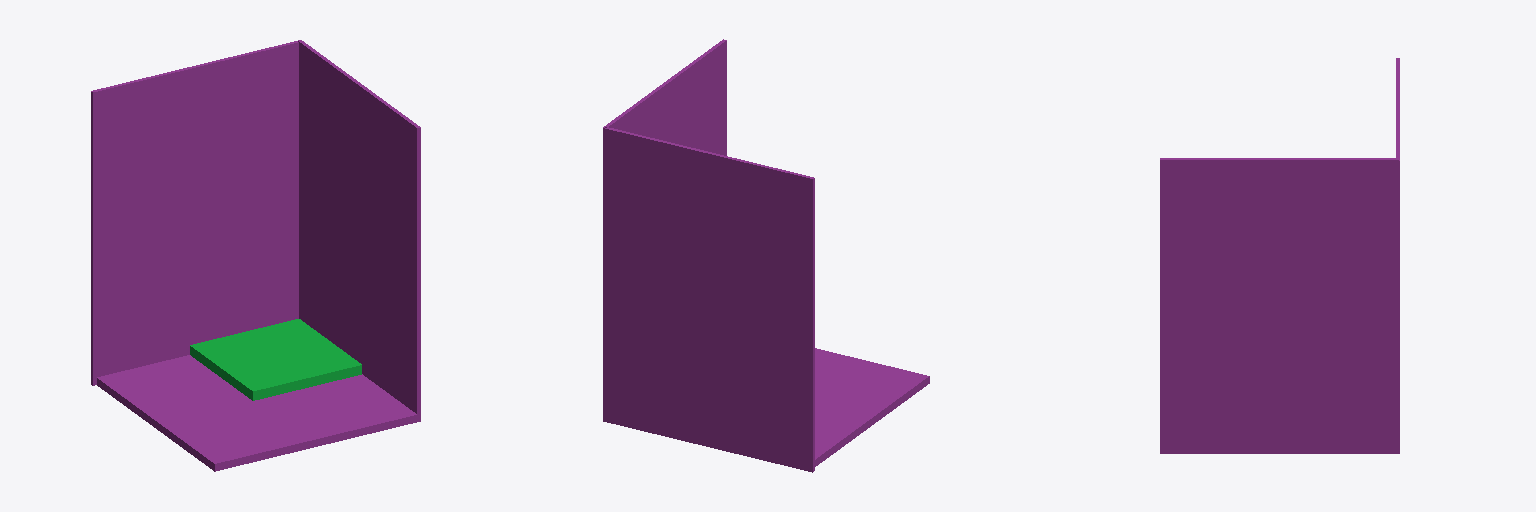
File: box-corner-2.obj
3 renders of one model, left to right at view 1: azimuth 30°, elevation 25°; view 2: azimuth 150°, elevation 25°; view 3: azimuth 270°, elevation 25°, orthographic.
Visible parts, largest first — view 1: Object.2, Object.1, Object.3, Object.4; view 2: Object.2, Object.1, Object.3; view 3: Object.1, Object.2.
Part boxes in pixels (x1,y1,x2,y2): Object.2: (91,40,299,385); Object.1: (298,40,420,421); Object.3: (97,355,416,471); Object.4: (190,319,361,400); Object.2: (603,127,814,472); Object.1: (604,39,726,155); Object.3: (815,348,929,466); Object.1: (1160,158,1398,453); Object.2: (1396,58,1399,453).
Bounding box in the file's own units: 1150 × 1539 × 1142.